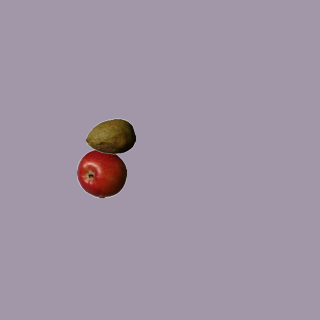Apple Braeburn: (76, 148, 126, 198)
Papaya: (85, 111, 135, 161)
